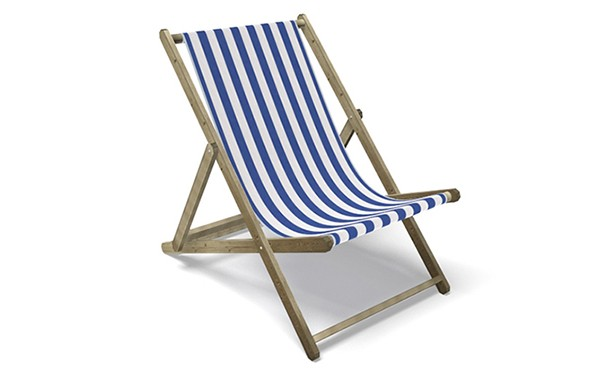chairs: (147, 6, 469, 362)
